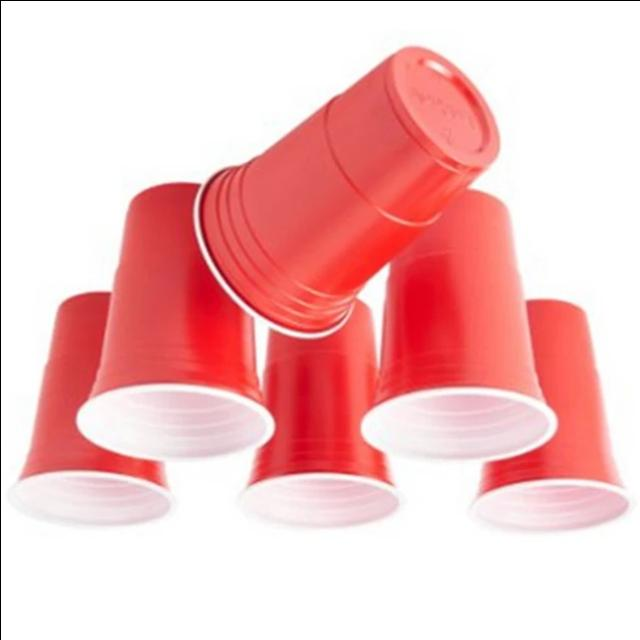plastik: (193, 47, 499, 337), (76, 183, 272, 459), (360, 191, 555, 461), (7, 293, 173, 526), (468, 300, 629, 531), (237, 302, 398, 527)
